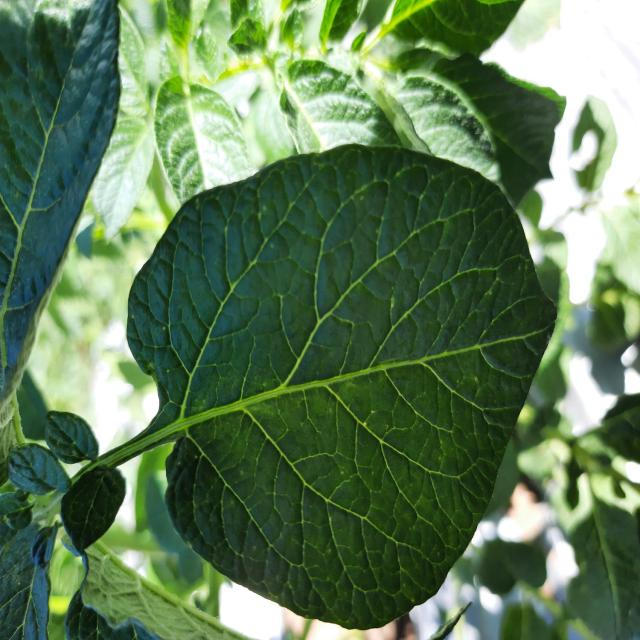healthy: (122, 142, 560, 631)
